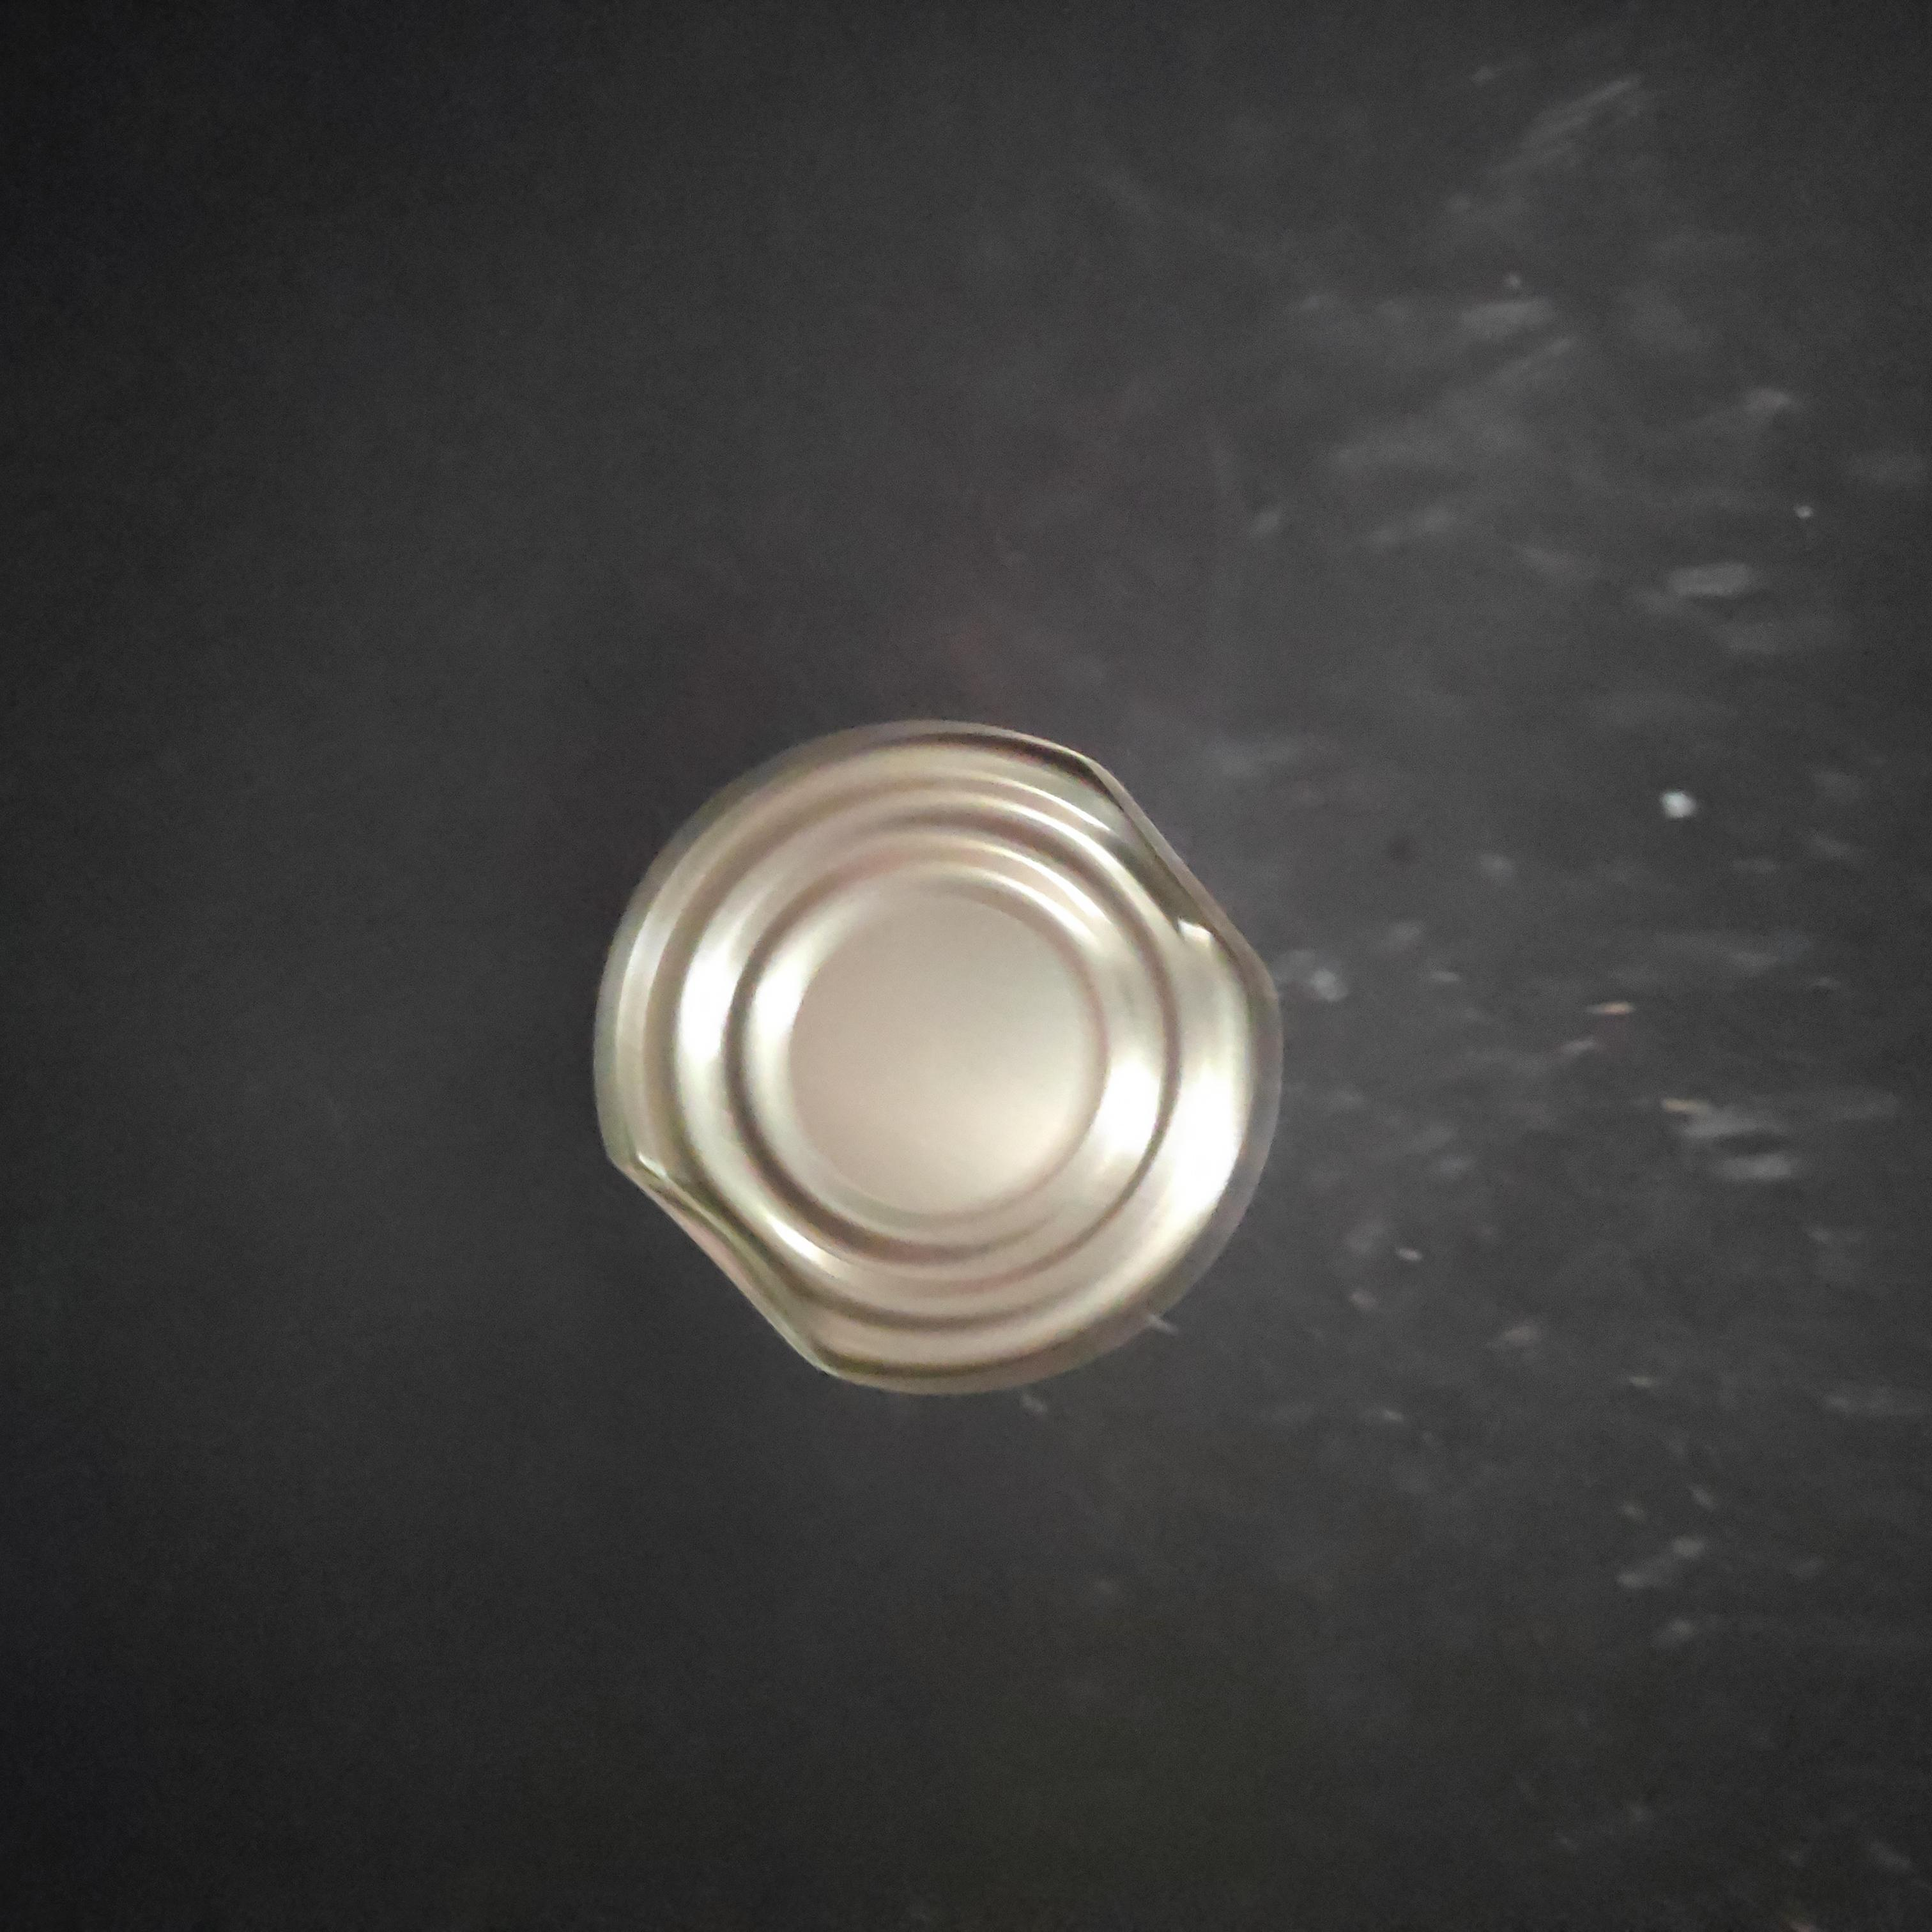Minor Defect: (637, 511, 1350, 1230)
